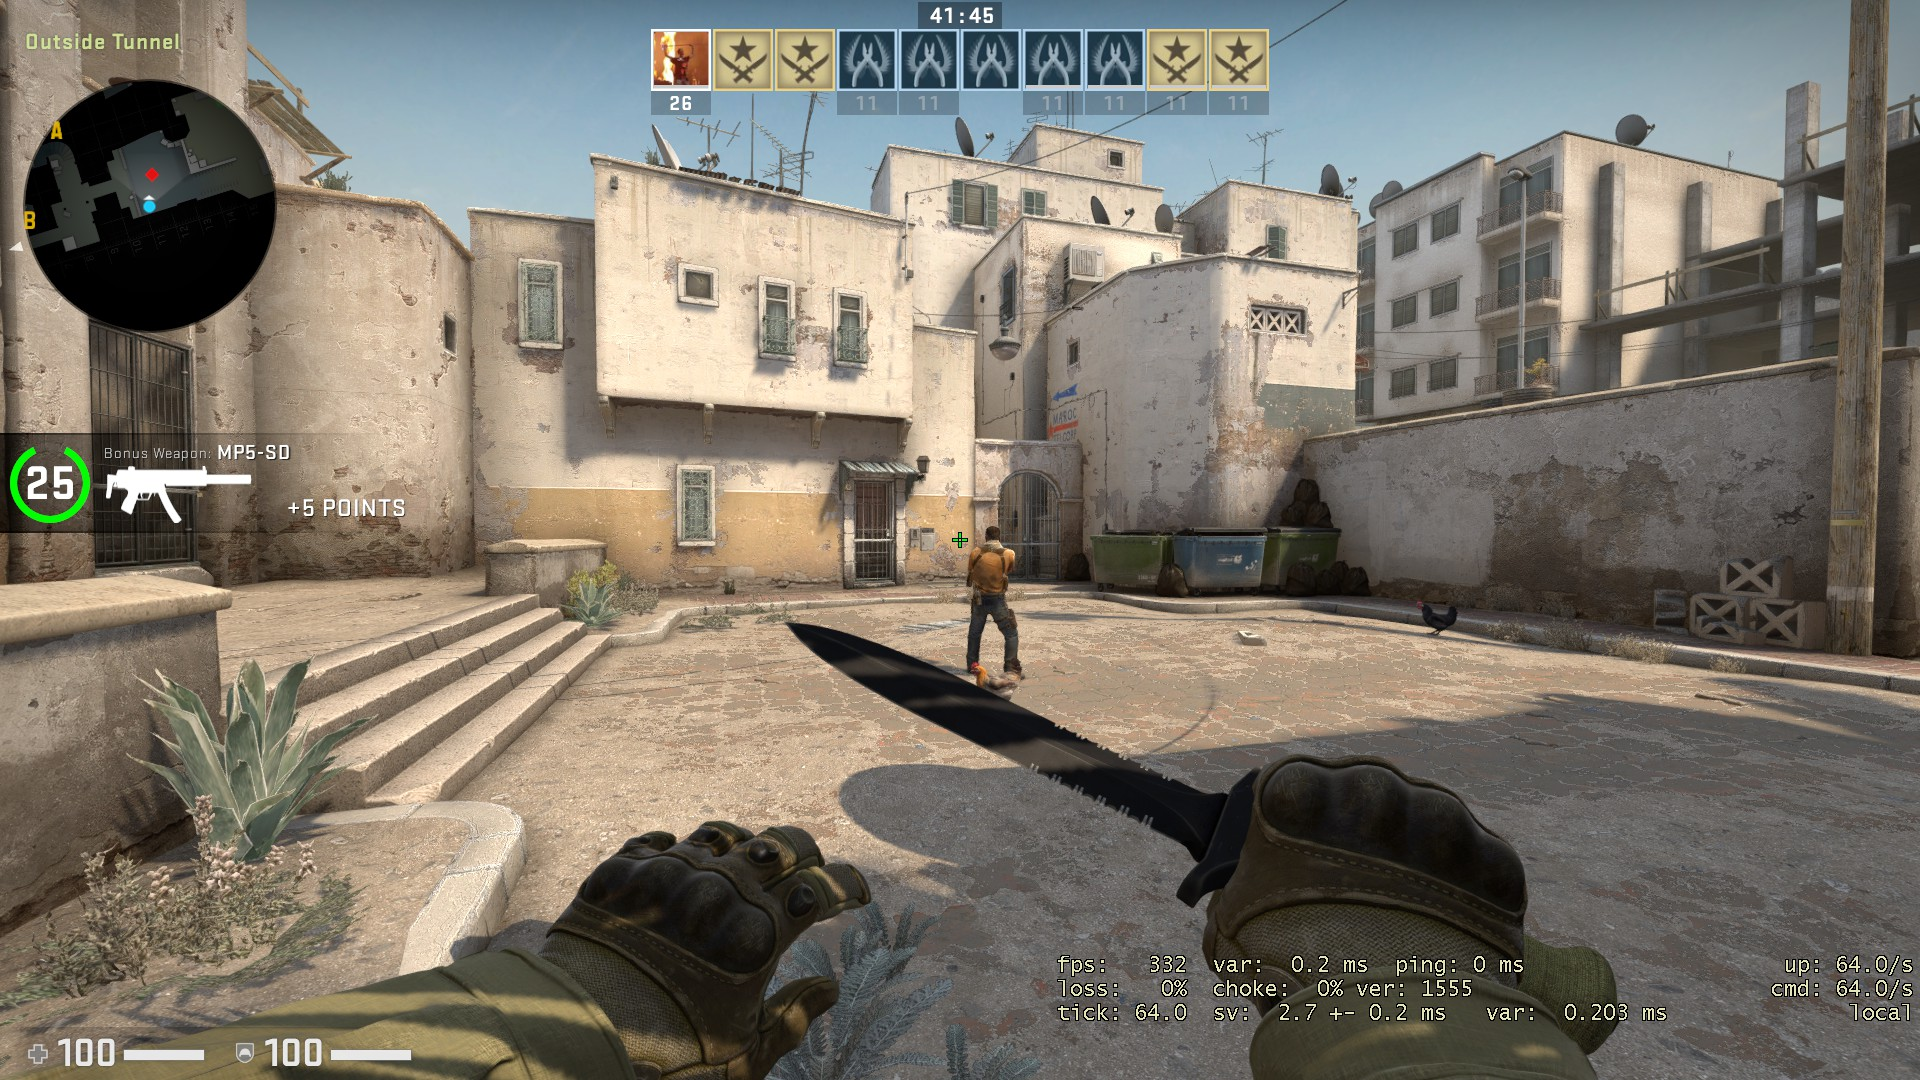player: (960, 523, 1027, 680)
